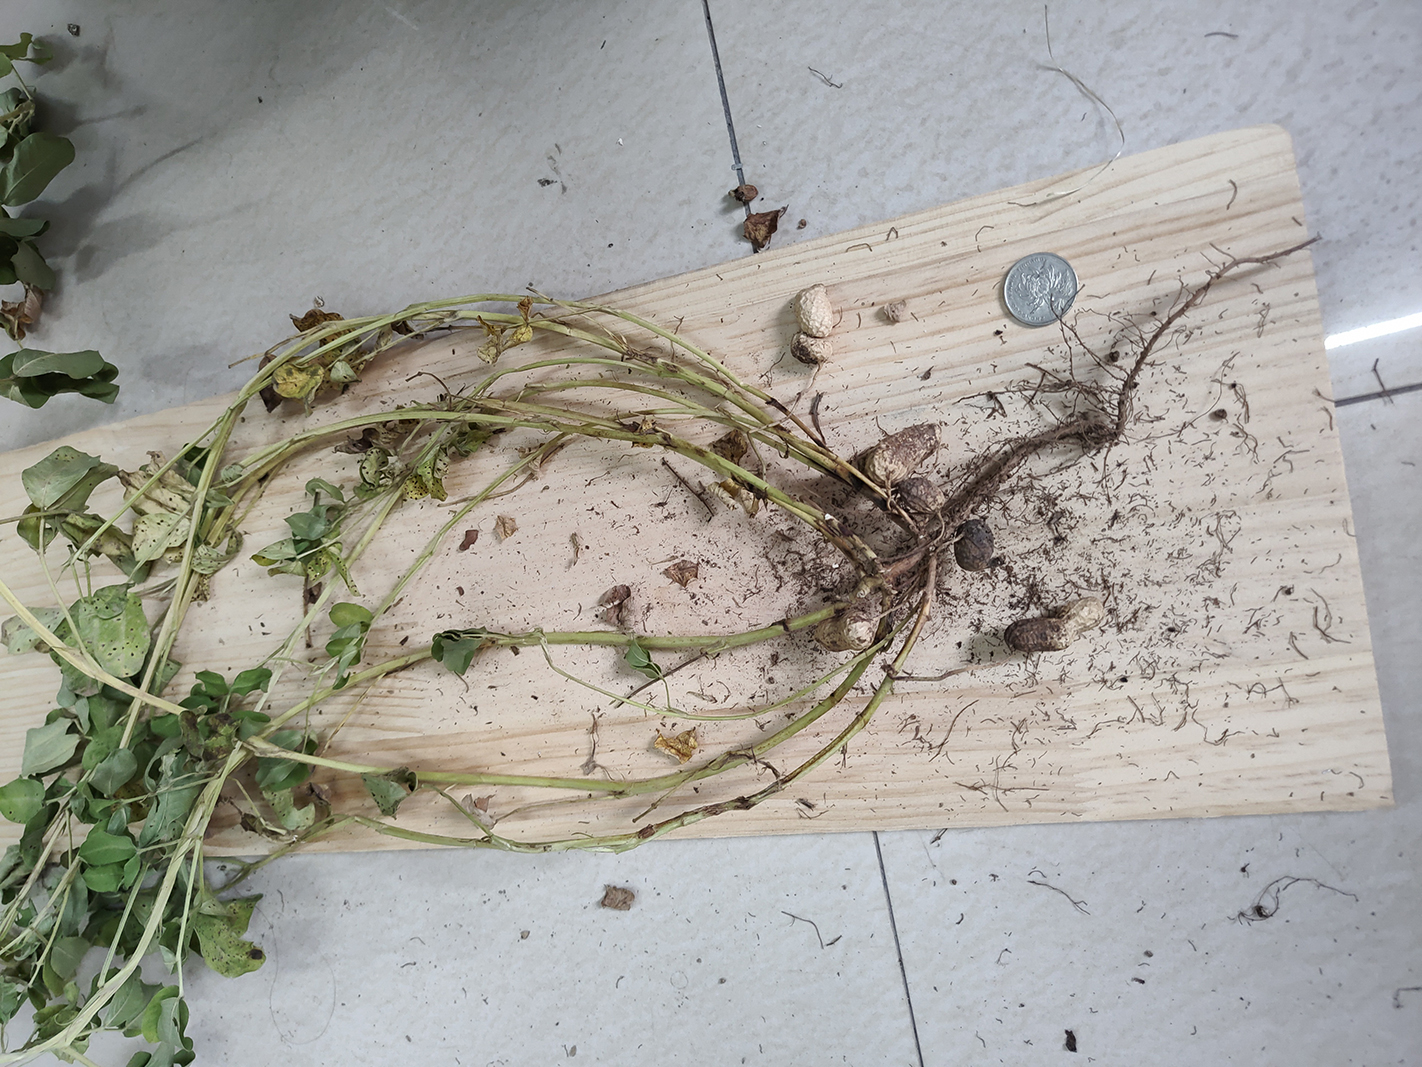h: (790, 282, 833, 365), (814, 612, 874, 651)
l: (1004, 597, 1106, 652), (864, 424, 944, 483), (954, 516, 994, 570), (902, 476, 945, 514)
